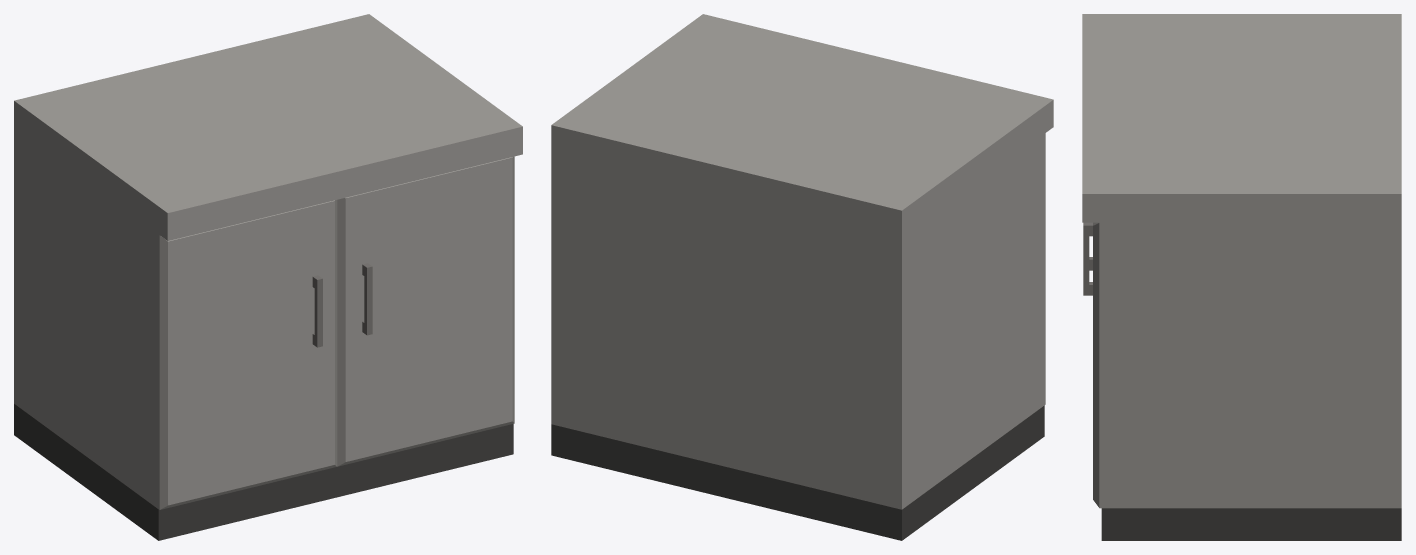
The model's file is SM_Props_Interior_House_Kitchen_Drawer_01.fbx.
The picture shows the model from 3 angles, left to right: view 1: azimuth 30°, elevation 25°; view 2: azimuth 150°, elevation 25°; view 3: azimuth 270°, elevation 25°; orthographic projection. The views are drawn at different scales.
Visible parts, largest first — view 1: SM_Props_Interior_House_Kitchen_Drawer_01; view 2: SM_Props_Interior_House_Kitchen_Drawer_01; view 3: SM_Props_Interior_House_Kitchen_Drawer_01.
Part boxes in pixels (x1,y1,x2,y2): SM_Props_Interior_House_Kitchen_Drawer_01: [14, 14, 522, 540]; SM_Props_Interior_House_Kitchen_Drawer_01: [551, 14, 1053, 540]; SM_Props_Interior_House_Kitchen_Drawer_01: [1082, 14, 1401, 540].
Size of the model in its own units: 100 by 90 by 75.
